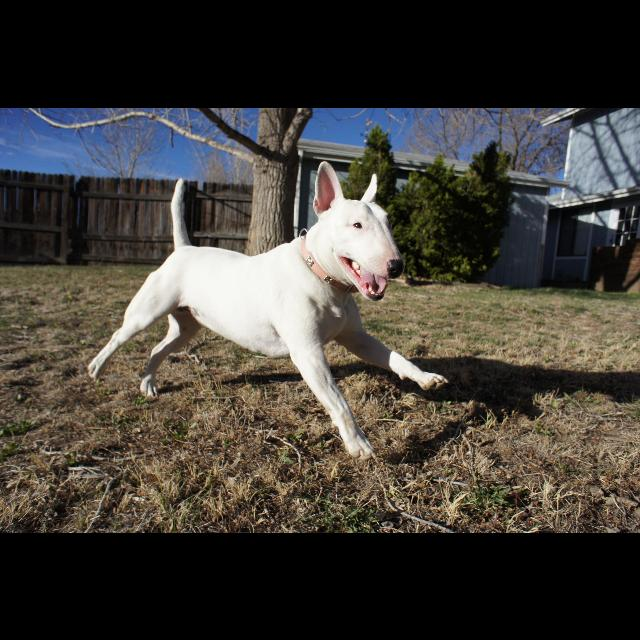bullterrier: (88, 161, 450, 461)
